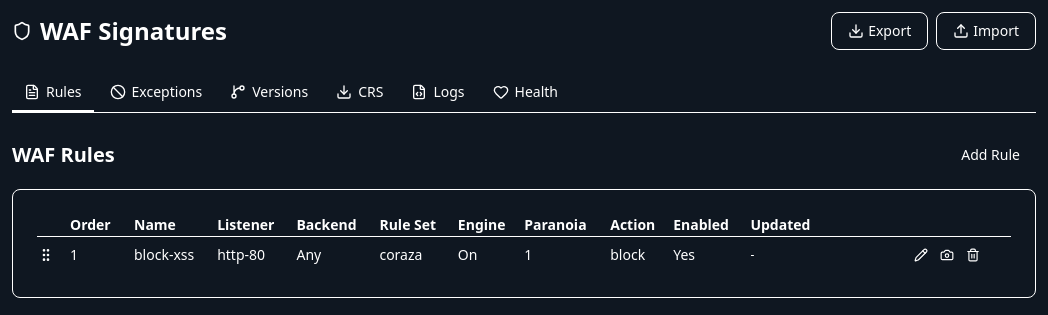
Test case: Waf page › switches to Exceptions tab
Check: the heading "WAF Signatures" is shown, box top-left (12, 15), bottom-right (227, 47)
Click the button "Exceptions". click: (156, 93)
box: top-left (98, 74), bottom-right (214, 112)
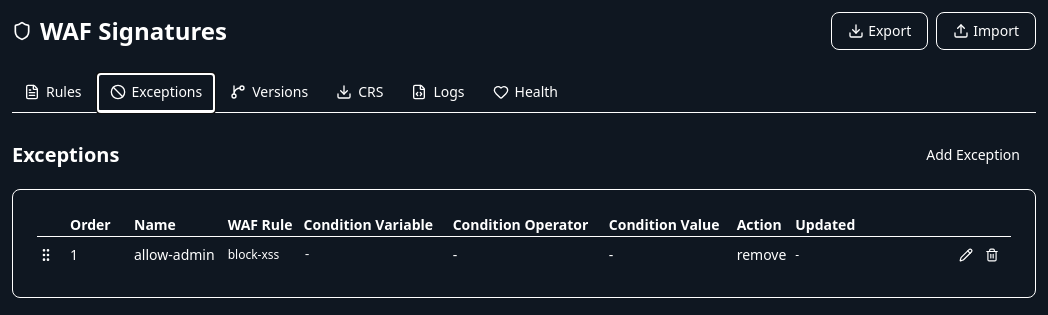
Check: the text "allow-admin" is shown, box top-left (133, 236), bottom-right (227, 273)
